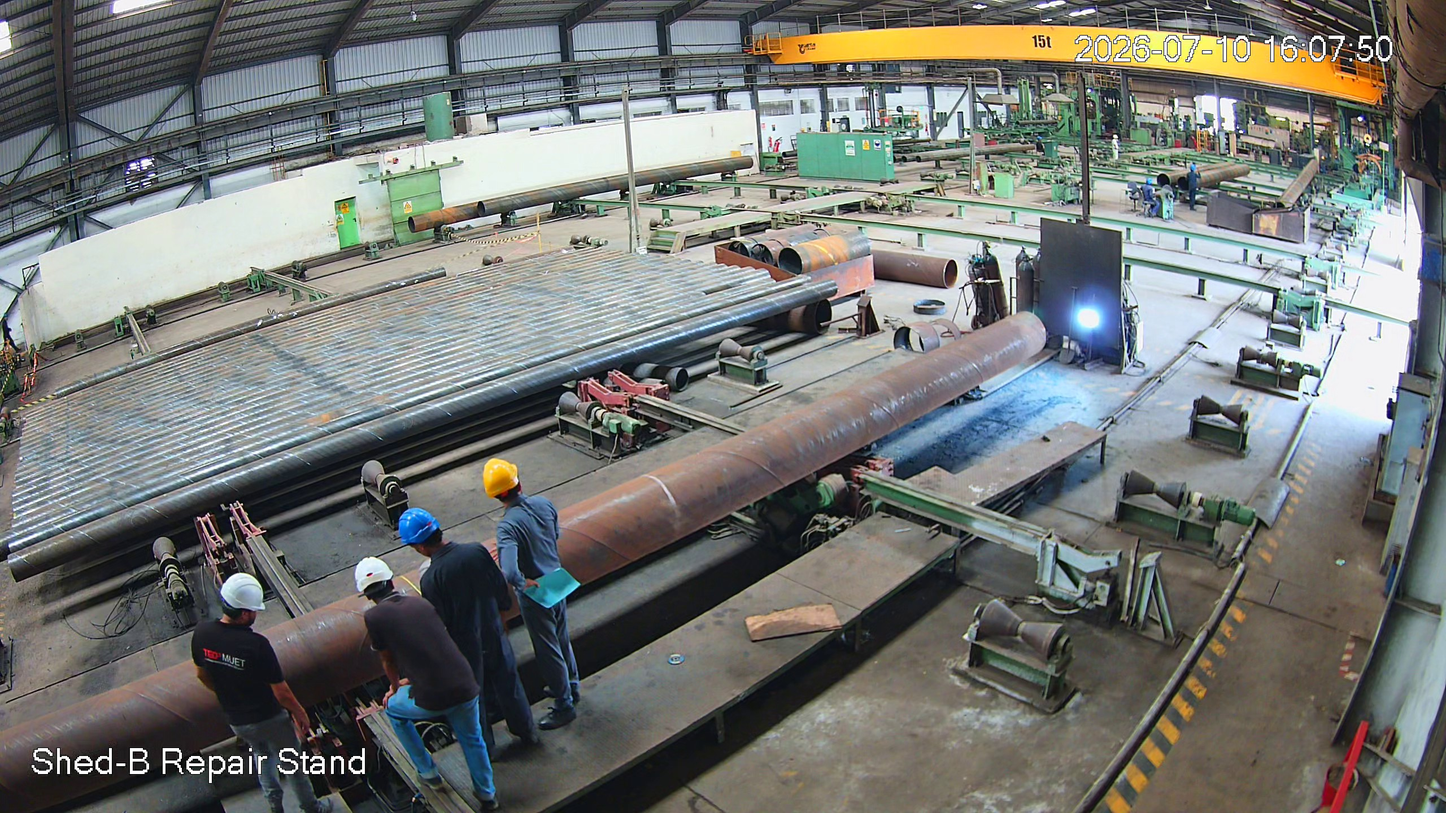Helmet: (391, 492, 463, 586), (205, 558, 267, 650), (342, 548, 409, 617), (474, 448, 537, 512)
Person: (345, 552, 501, 810), (479, 454, 614, 737), (402, 504, 540, 754), (188, 563, 304, 813)
